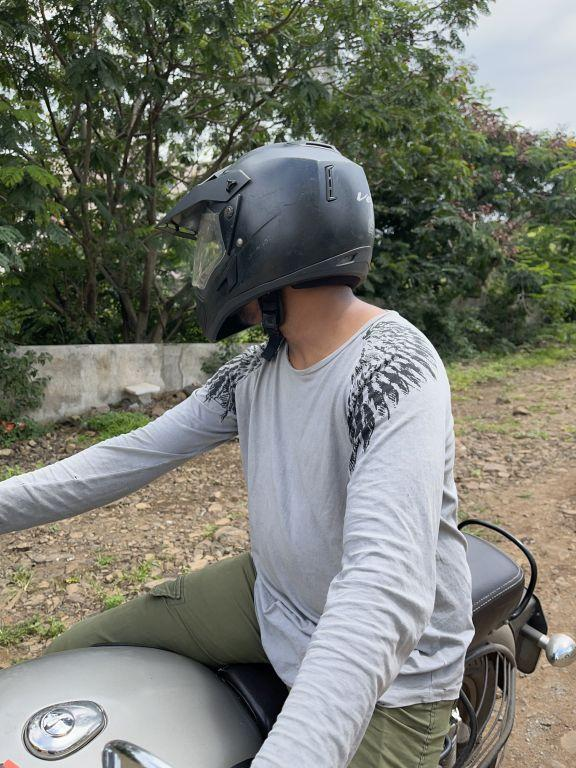helmet: (152, 129, 378, 352)
